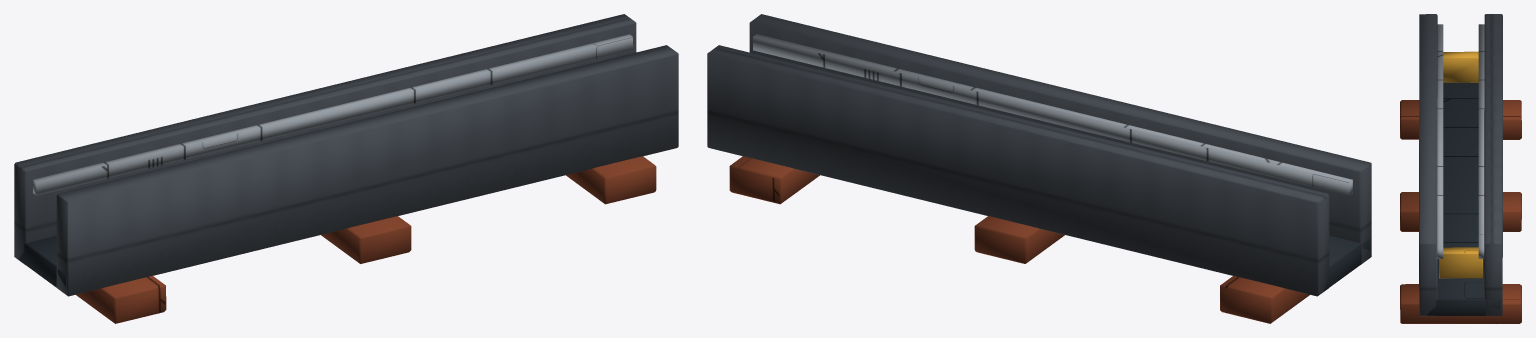
The model's file is ops_bulkhead_guide_rail_lod2.glb.
The picture shows the model from 3 angles, left to right: view 1: azimuth 30°, elevation 25°; view 2: azimuth 150°, elevation 25°; view 3: azimuth 270°, elevation 25°; orthographic projection. The views are drawn at different scales.
Parts seen in each view (by area): view 1: LOD2_Mechanical, LOD2_BrushedMetal, LOD2_Hull, LOD2_Armor; view 2: LOD2_Mechanical, LOD2_BrushedMetal, LOD2_Hull, LOD2_Armor; view 3: LOD2_Mechanical, LOD2_Armor, LOD2_Hull, LOD2_BrushedMetal, LOD2_Livery.
Part boxes in pixels (box(x1,y1,x2,y2)): LOD2_Mechanical: box(14, 14, 678, 296); LOD2_BrushedMetal: box(33, 34, 633, 195); LOD2_Hull: box(76, 156, 656, 323); LOD2_Armor: box(18, 235, 65, 287); LOD2_Mechanical: box(707, 14, 1371, 296); LOD2_BrushedMetal: box(753, 34, 1352, 195); LOD2_Hull: box(729, 156, 1309, 323); LOD2_Armor: box(1323, 235, 1370, 291); LOD2_Mechanical: box(1419, 14, 1502, 316); LOD2_Armor: box(1427, 82, 1499, 315); LOD2_Hull: box(1400, 100, 1521, 323); LOD2_BrushedMetal: box(1437, 24, 1484, 258); LOD2_Livery: box(1439, 51, 1482, 278).
Bounding box in the file's own units: 4 × 0.7656 × 0.8955.
5 materials, 5 textured.
